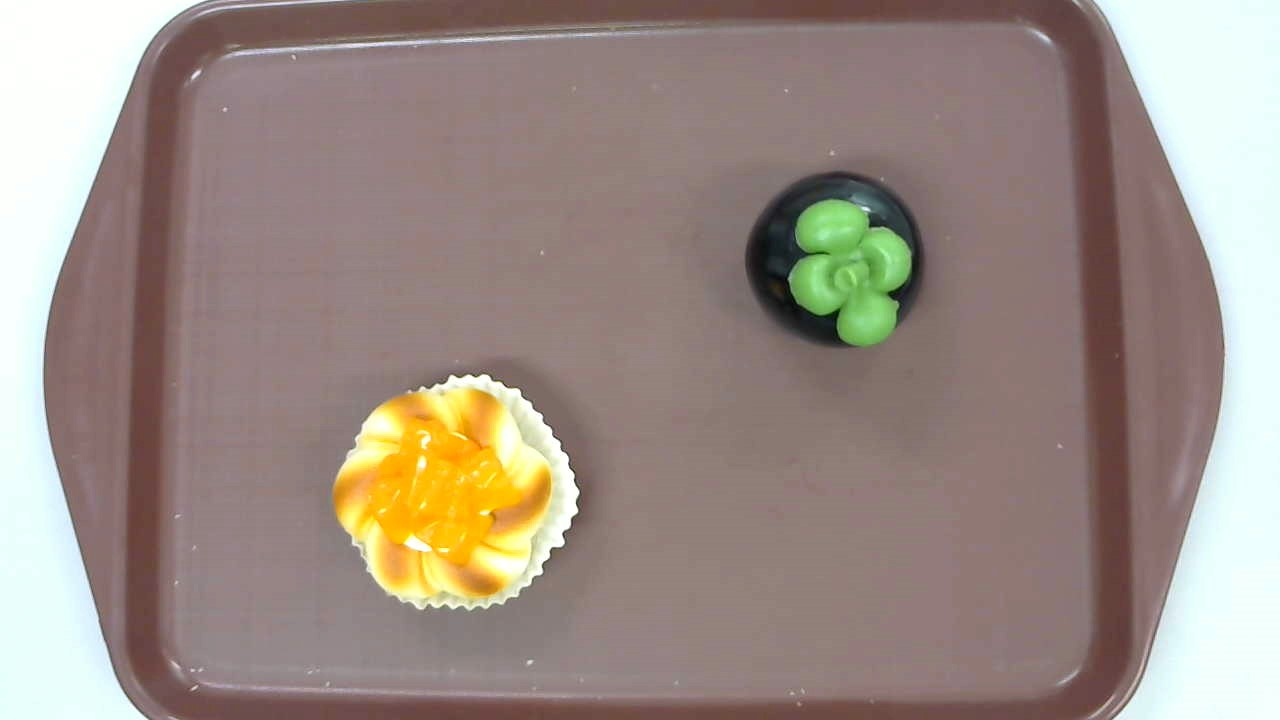mango tart: (331, 372, 580, 612)
mangosteen: (745, 172, 926, 349)
